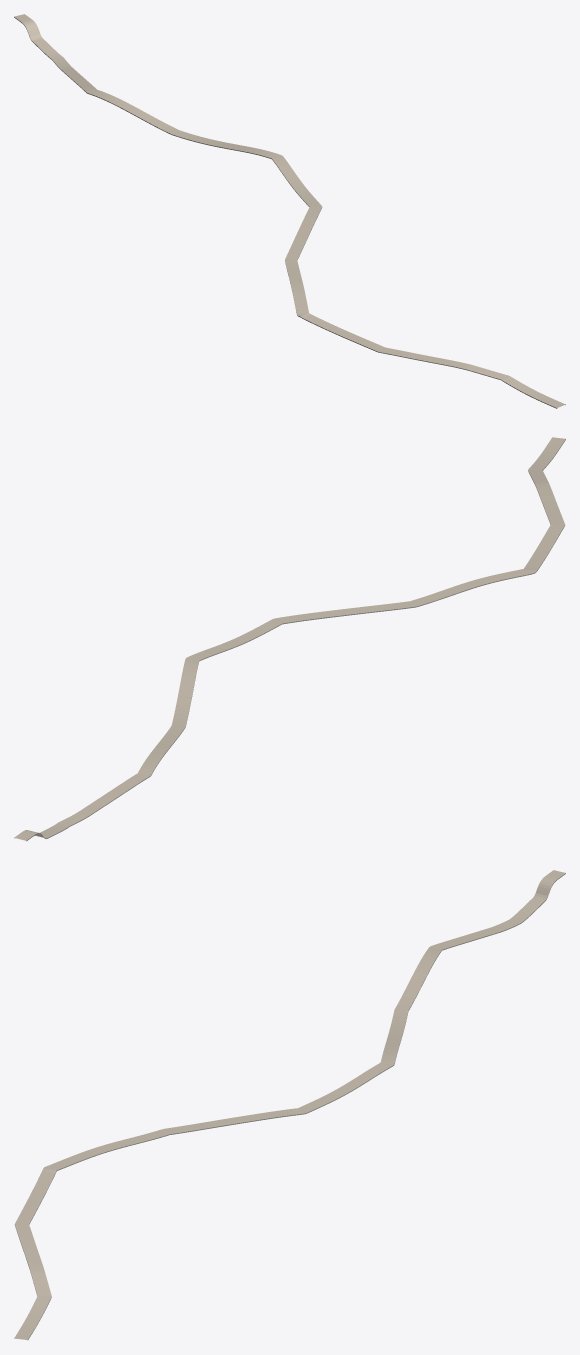
The model's file is SM_Road_main_road.fbx.
The picture shows the model from 3 angles, top to bottom: view 1: azimuth 30°, elevation 25°; view 2: azimuth 150°, elevation 25°; view 3: azimuth 330°, elevation 25°; orthographic projection. The views are drawn at different scales.
Parts seen in each view (by area): view 1: SM_Road_main_road; view 2: SM_Road_main_road; view 3: SM_Road_main_road.
Boxes of the visible parts, box(x1,y1,x2,y2) form: SM_Road_main_road: box(14, 14, 565, 408); SM_Road_main_road: box(14, 437, 565, 841); SM_Road_main_road: box(14, 870, 565, 1340).
Size of the model in its own units: 162 by 31.8 by 982.
